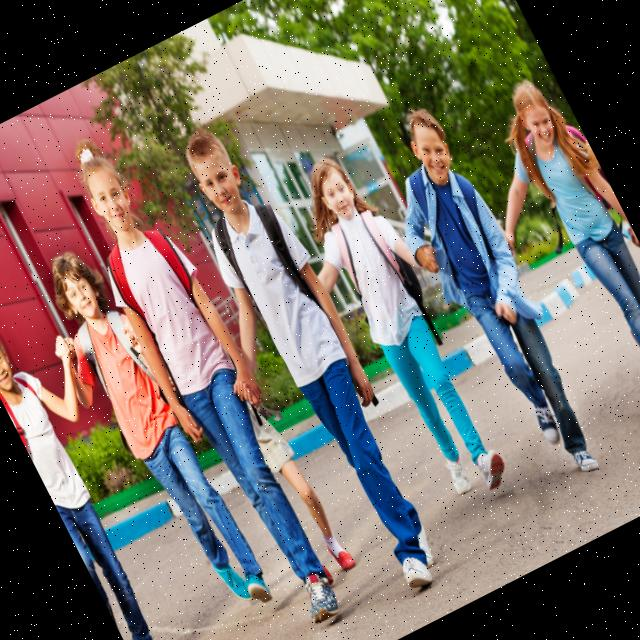Person: (123, 109, 468, 624), (48, 119, 369, 638), (357, 101, 617, 498), (18, 238, 276, 636), (274, 144, 522, 514), (0, 282, 220, 640), (446, 67, 640, 449)
